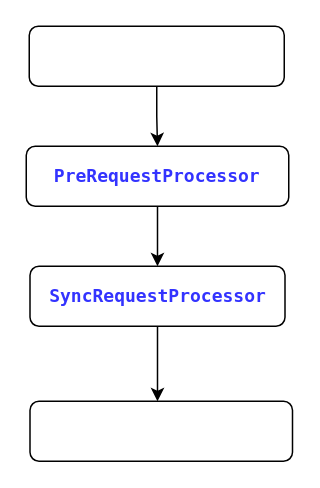
This 320x488 diagram has some shape labels left out. Here are the shapes that lost their labels. From the top down, the centre of each, then its label:
At point (156, 55): "RequestThrottler".
At point (160, 430): "FinalRequestProcessor".
